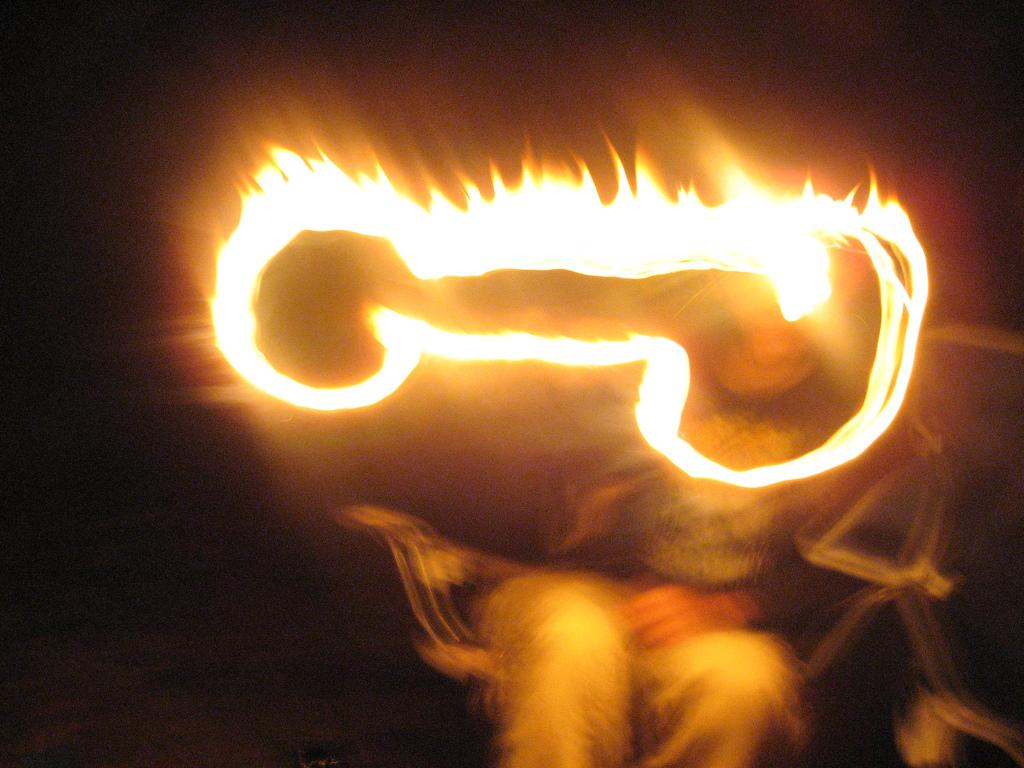fire: (420, 208, 812, 272), (240, 190, 390, 228)
